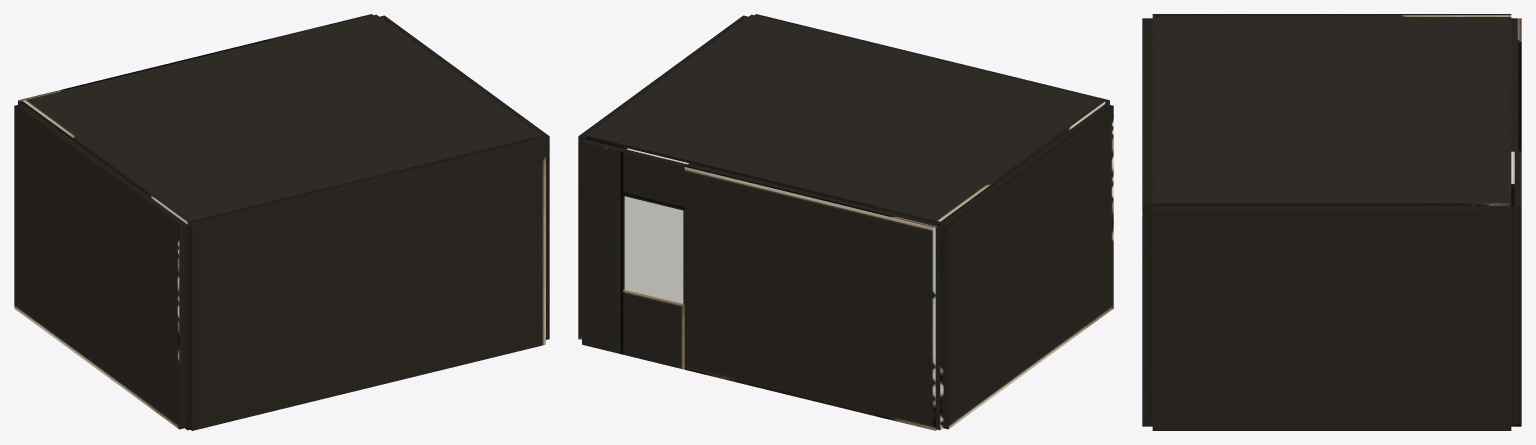
File: study.glb
3 views of the same model, side by side, from view 1: azimuth 30°, elevation 25°; view 2: azimuth 150°, elevation 25°; view 3: azimuth 270°, elevation 25° (orthographic). The views are drawn at different scales.
Visible parts, largest first — view 1: wall_south, ceiling, wall_west, wall_east, wall_north_a; view 2: ceiling, wall_north_a, wall_west, wall_north_b, window_east_of_wall_section, wall_north_below, wall_north_above, wall_east, wall_south; view 3: wall_east, ceiling, wall_south, wall_north_b, wall_north_a, wall_west.
Part boxes in pixels (x1,y1,x2,y2): wall_south: (187,138,545,430); ceiling: (22,14,541,224); wall_west: (14,104,187,429); wall_east: (379,15,549,339); wall_north_a: (18,39,270,104); ceiling: (586,14,1105,224); wall_north_a: (684,163,940,430); wall_west: (940,104,1113,429); wall_north_b: (582,138,627,354); window_east_of_wall_section: (623,194,684,303); wall_north_below: (623,289,684,369); wall_north_above: (623,148,688,209); wall_east: (578,15,748,339); wall_south: (755,14,1109,104); wall_east: (1152,206,1511,430); ceiling: (1152,15,1511,205); wall_south: (1142,18,1152,426); wall_north_b: (1511,184,1521,426); wall_north_a: (1511,18,1521,151); wall_west: (1152,14,1511,15).
Size of the model in its own units: 5.44 by 2.93 by 4.44.
Materials: 5 (5 with a texture image).
